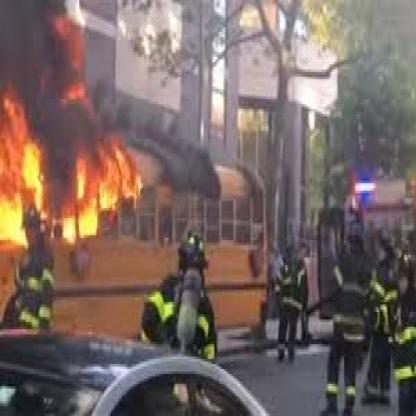fire: (0, 3, 156, 270)
